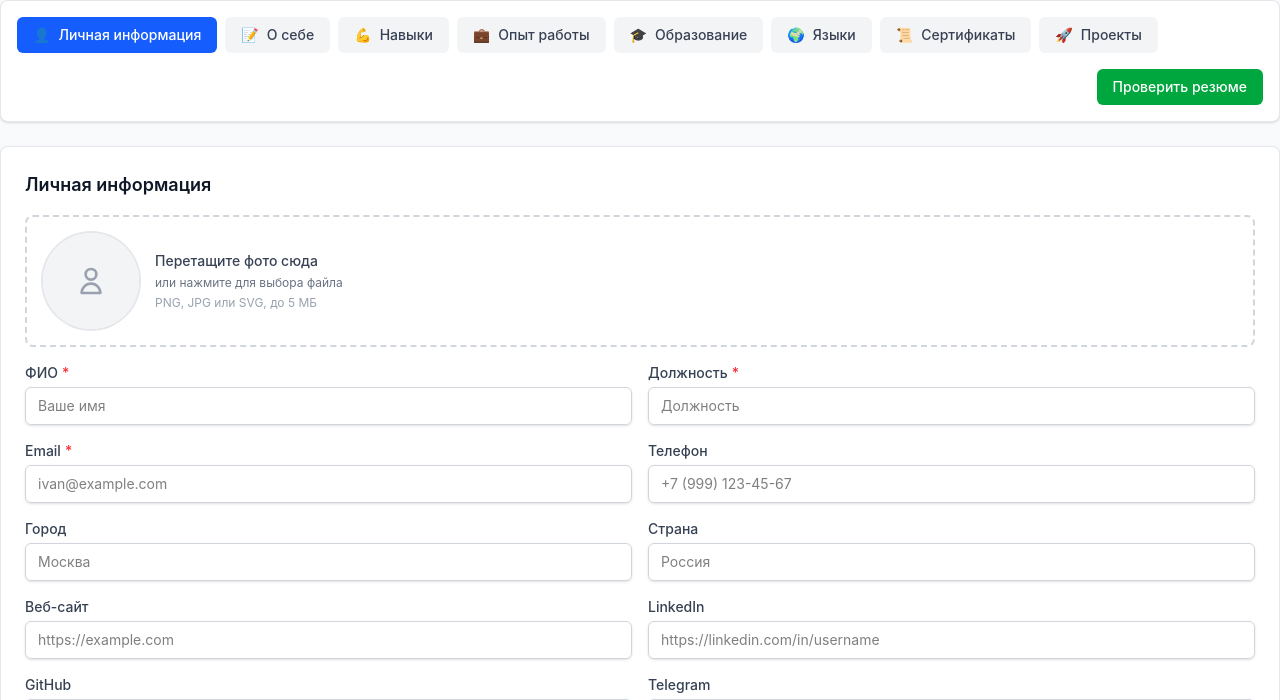
EditorPanel › should switch to skills section
Click the button "💪Навыки" at (394, 35), box [338,17,449,53]
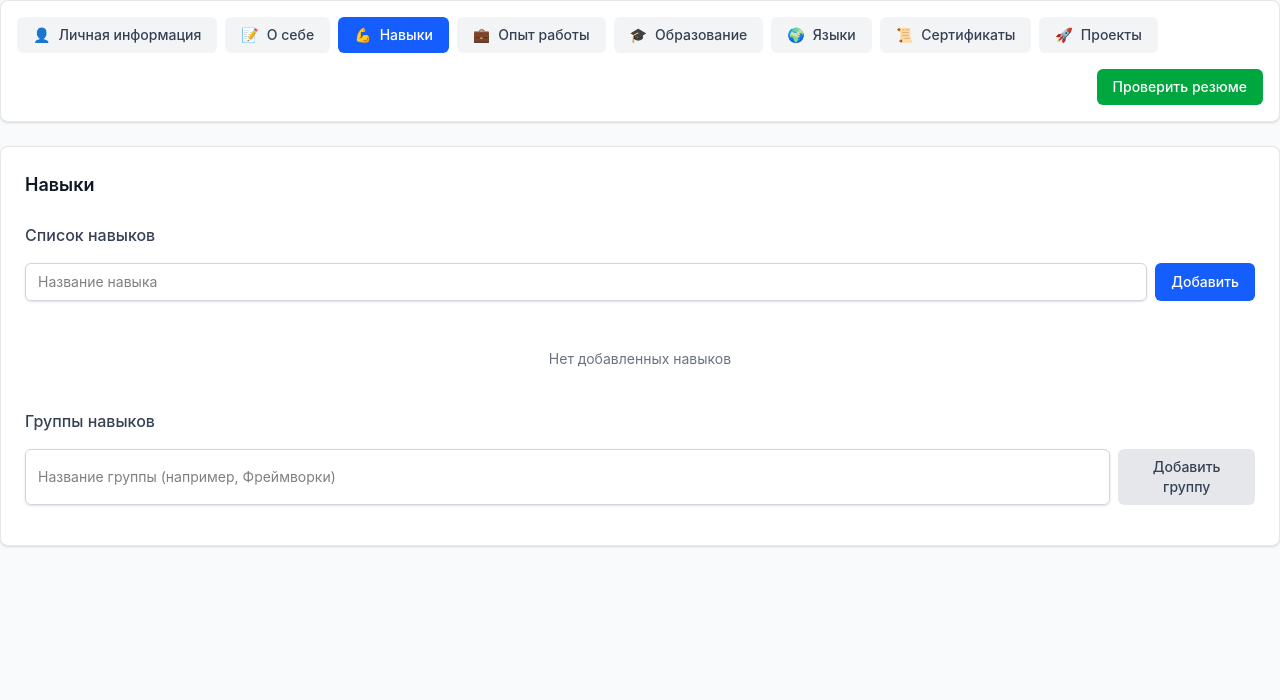
expect the heading "Список навыков" is shown: met, box [25,225,155,245]
